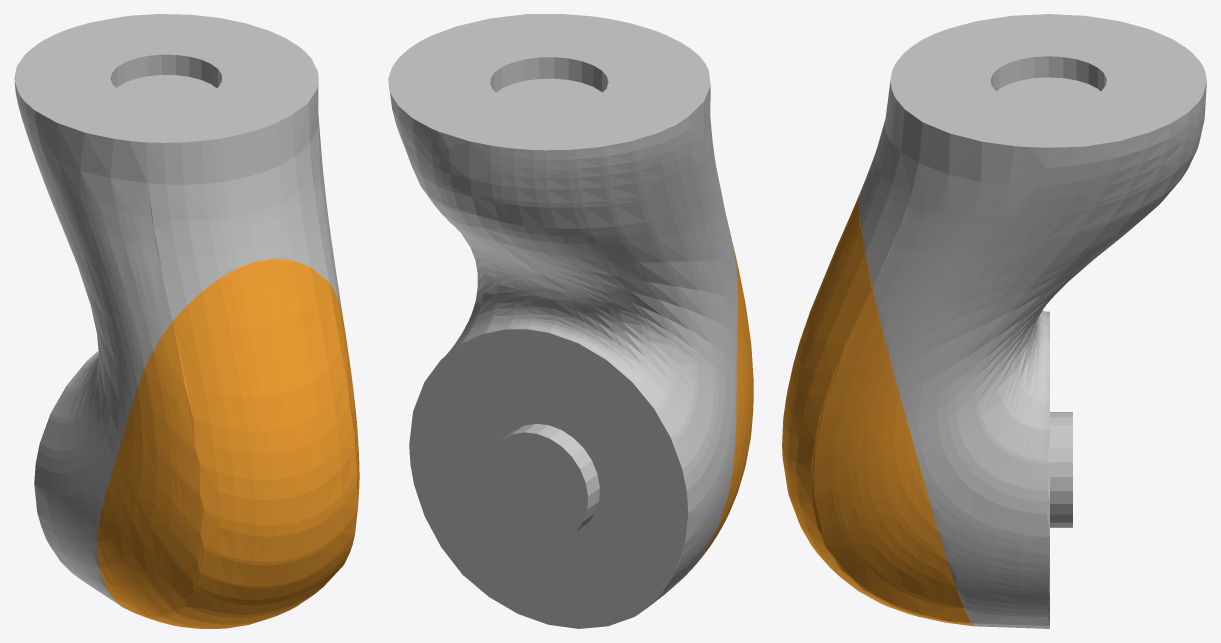
The picture shows the model from 3 angles, left to right: view 1: azimuth 30°, elevation 25°; view 2: azimuth 150°, elevation 25°; view 3: azimuth 270°, elevation 25°; orthographic projection. The views are drawn at different scales.
Visible parts, largest first — view 1: link_4; view 2: link_4; view 3: link_4.
Boxes of the visible parts, x1,y1,x2,y2 form: link_4: (14,14,359,628); link_4: (388,14,753,628); link_4: (782,14,1206,628).
Size of the model in its own units: 0.136 by 0.1826 by 0.2525.
